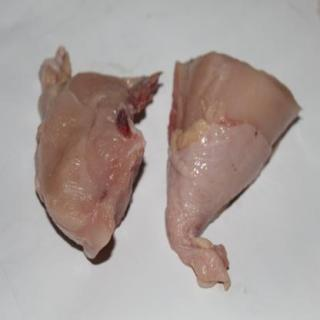Ayam: (165, 51, 304, 292), (34, 45, 163, 259)
